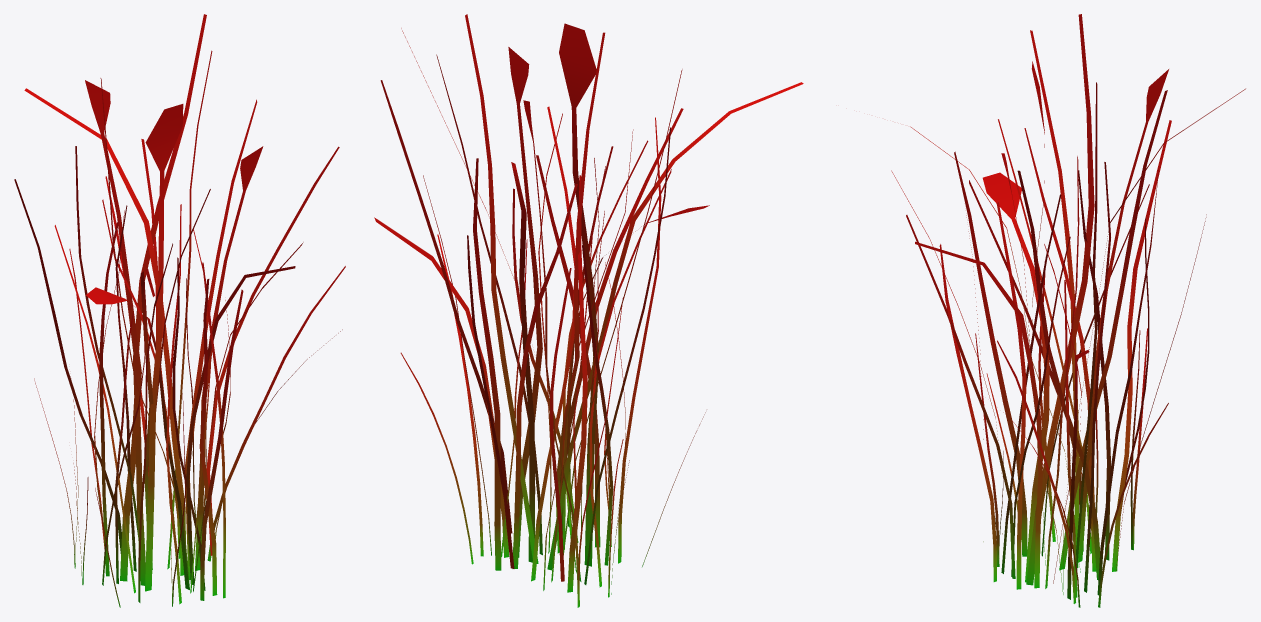
Rendered from Softstem Bulrush_LOD2_Var3_uehjcafia.fbx.
3 renders of one model, left to right at view 1: azimuth 30°, elevation 25°; view 2: azimuth 150°, elevation 25°; view 3: azimuth 270°, elevation 25°, orthographic. The views are drawn at different scales.
Parts seen in each view (by area): view 1: _9351_Var3_LOD2; view 2: _9351_Var3_LOD2; view 3: _9351_Var3_LOD2.
Part boxes in pixels (x1,y1,x2,y2): _9351_Var3_LOD2: (14, 14, 345, 607); _9351_Var3_LOD2: (374, 14, 803, 607); _9351_Var3_LOD2: (891, 14, 1245, 607).
Bounding box in the file's own units: 72.61 × 123 × 85.94.
